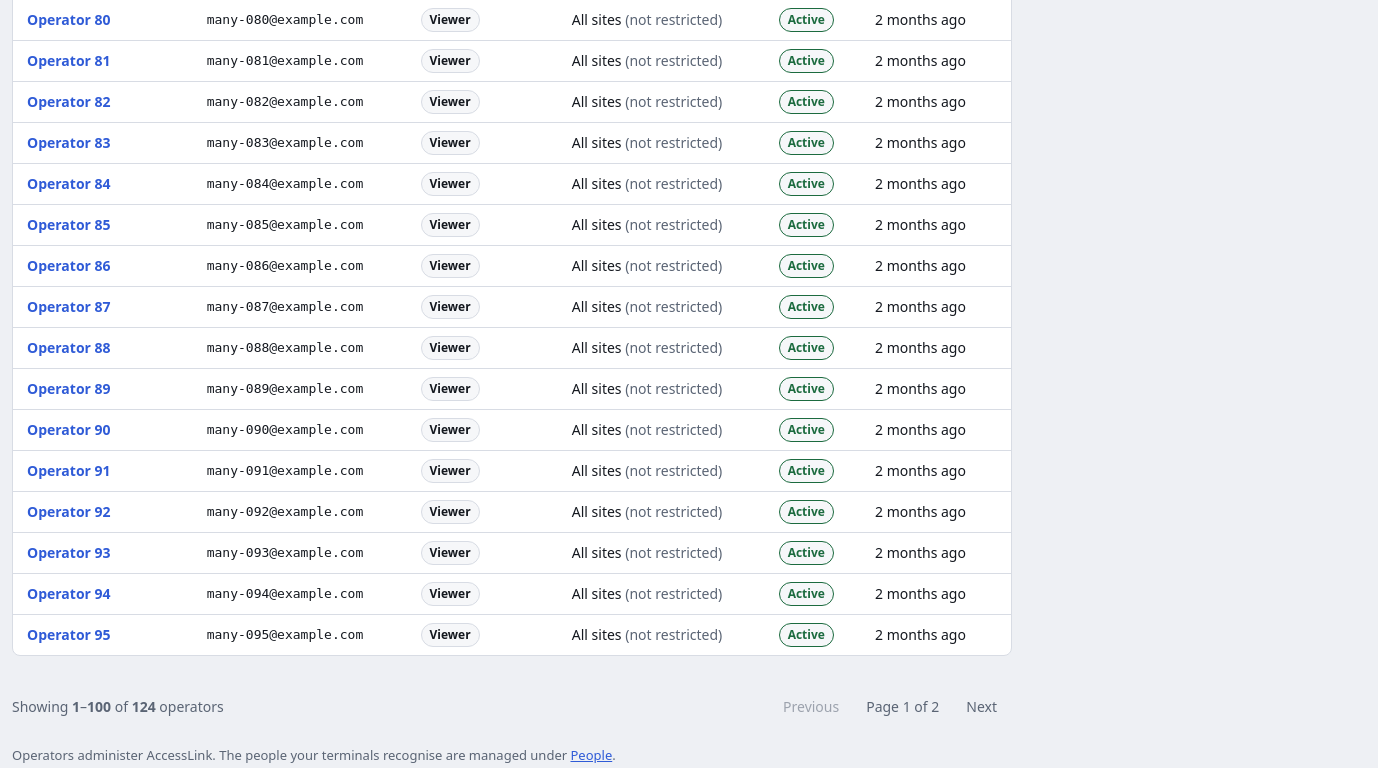
Scenario: operator list › PAGES ON THE SERVER, and can reach an operator past the first page
(page scrolled)
expect the text "many-119@example.com" is not shown: met
Click the button "Next" at coordinates (982, 707), box [951,688,1012,726]
(page scrolled)
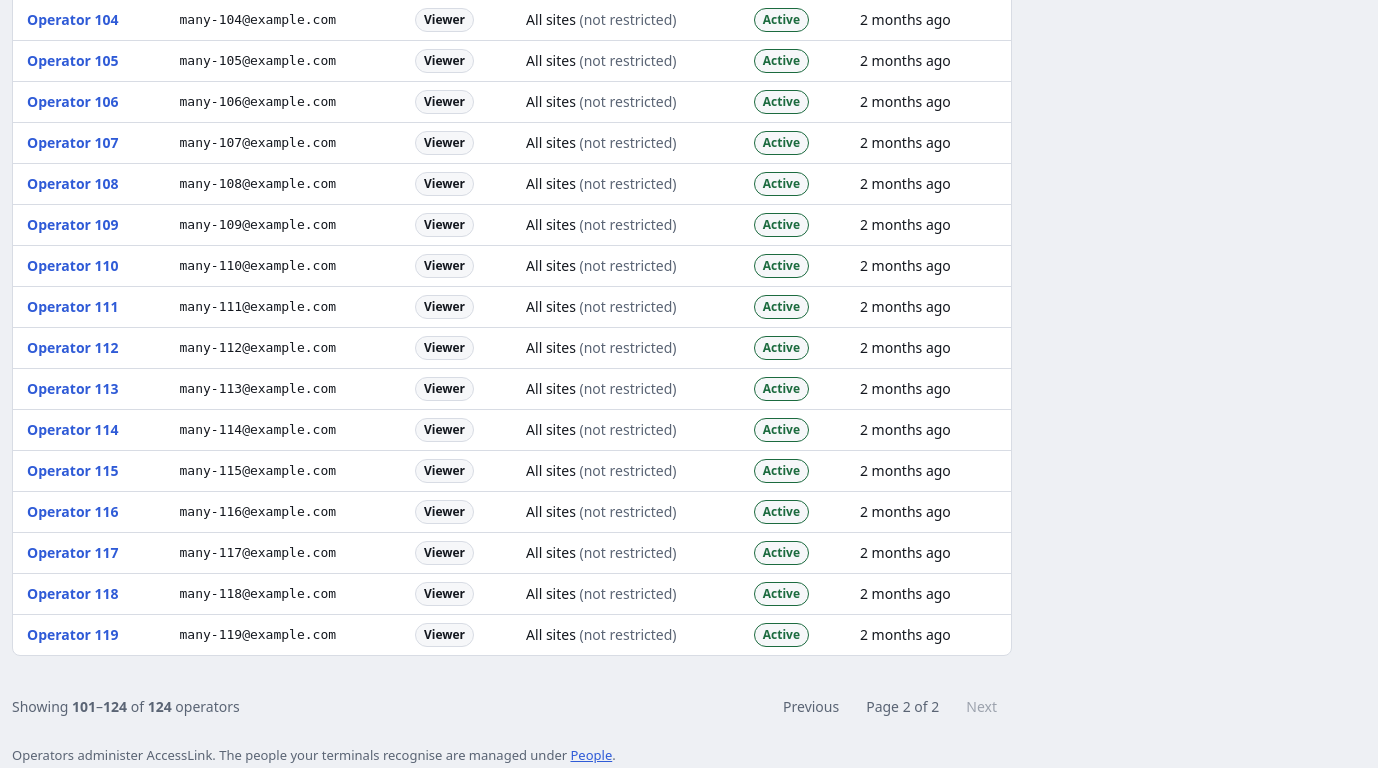
expect the text "many-119@example.com" is shown: met, box [180,628,336,642]
